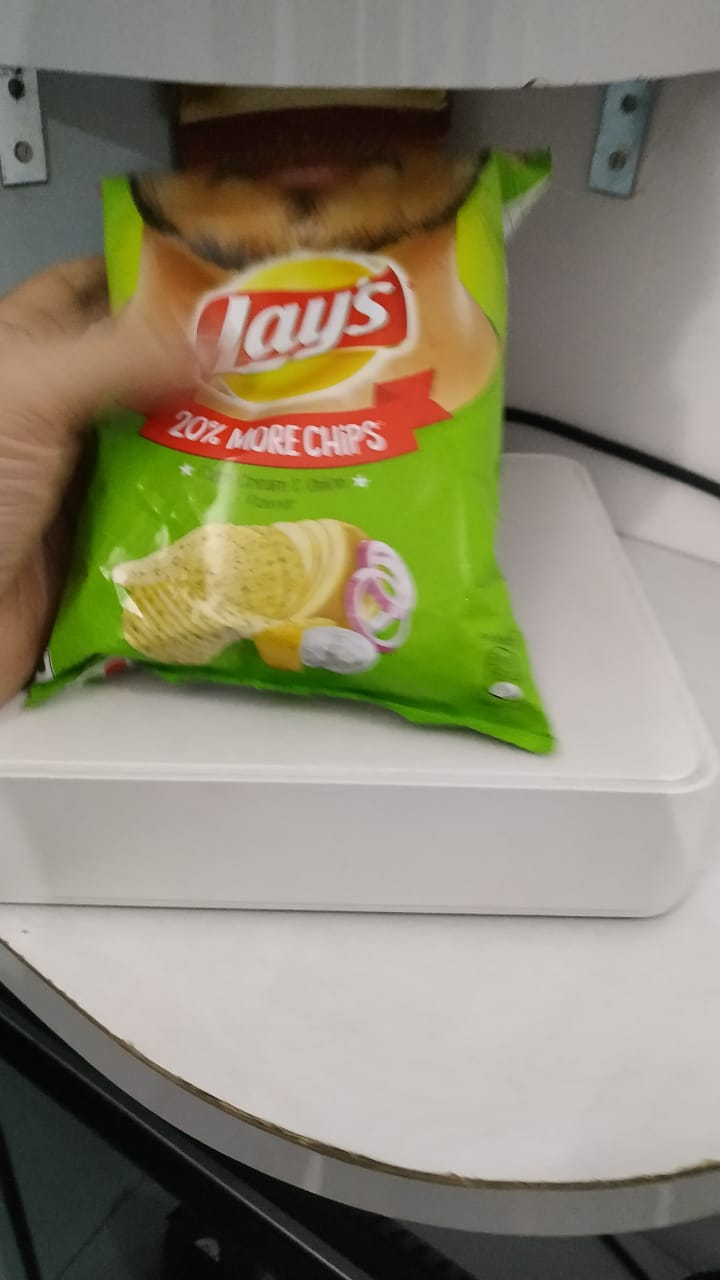lays chips: (74, 145, 564, 770)
